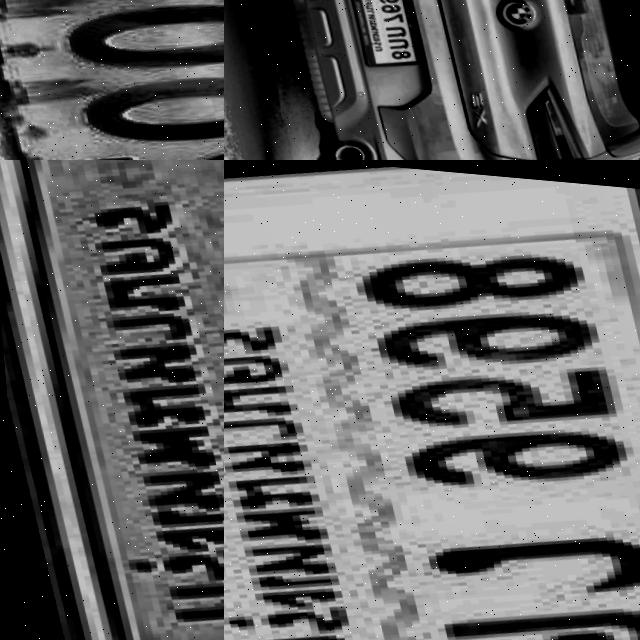license-plate: (224, 160, 640, 640), (0, 160, 224, 640), (0, 0, 224, 160), (333, 0, 422, 68)
